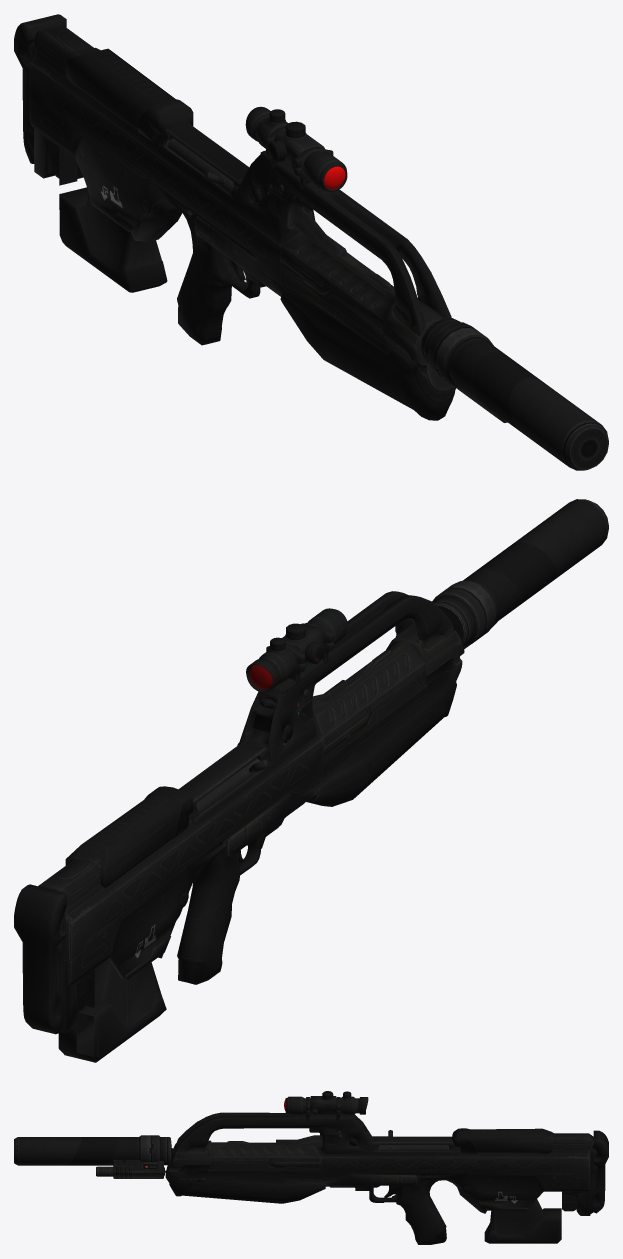
File: XBR55_Icon.fbx
The picture shows the model from 3 angles, top to bottom: view 1: azimuth 30°, elevation 25°; view 2: azimuth 150°, elevation 25°; view 3: azimuth 270°, elevation 25°; orthographic projection. The views are drawn at different scales.
Parts seen in each view (by area): view 1: Charging_Handle.006; view 2: Charging_Handle.006; view 3: Charging_Handle.006.
Boxes of the visible parts, x1,y1,x2,y2 form: Charging_Handle.006: (14, 14, 608, 470); Charging_Handle.006: (14, 499, 608, 1062); Charging_Handle.006: (14, 1091, 608, 1244).
Bounding box in the file's own units: 7.05 × 28.39 × 102.
